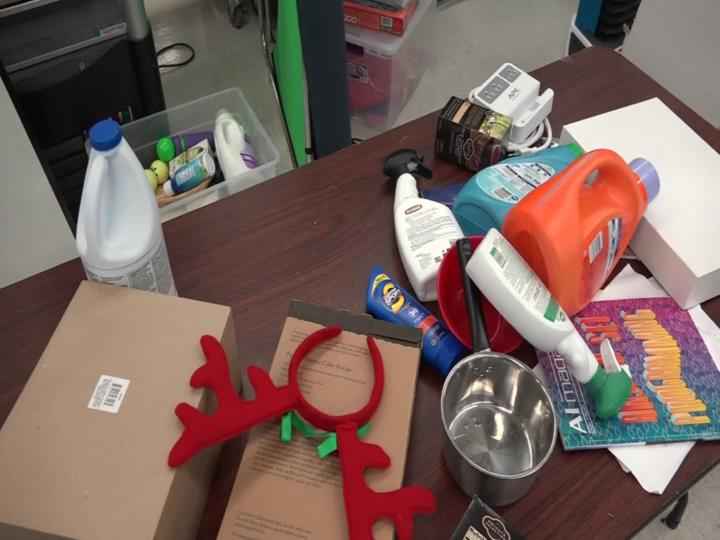tide: (483, 138, 668, 339)
